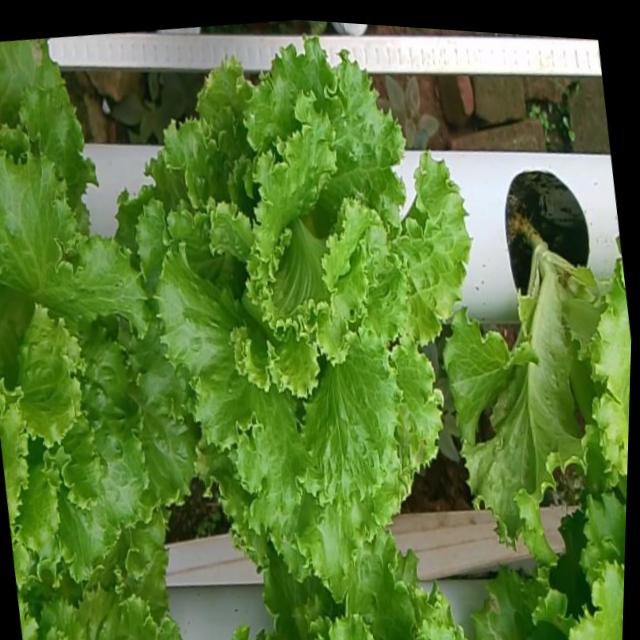Mature: (143, 38, 481, 581), (0, 139, 202, 579)
